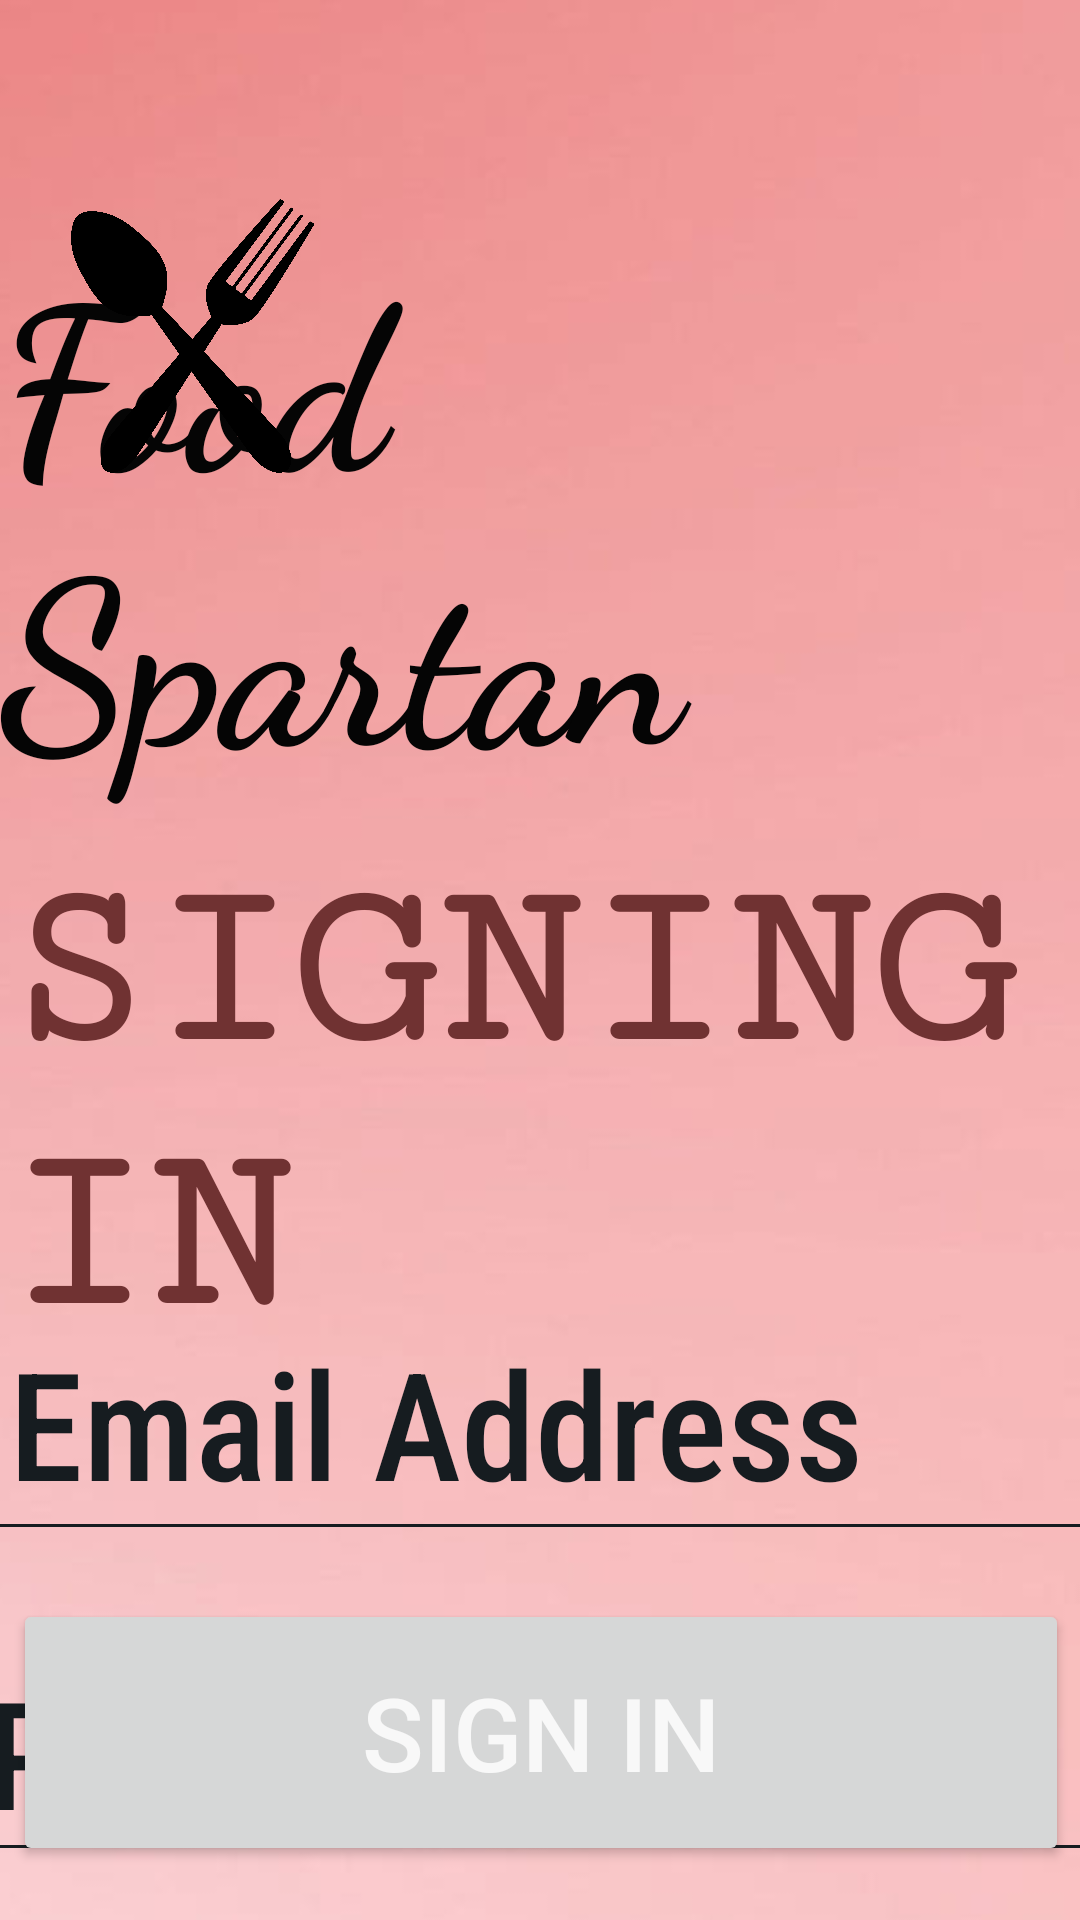

Locate icon controls on the screen. Image size 1080px x 1920px, boxes as [x1, y1, x2, y2].
vecteezy spoon and fork: [71, 199, 314, 474]
